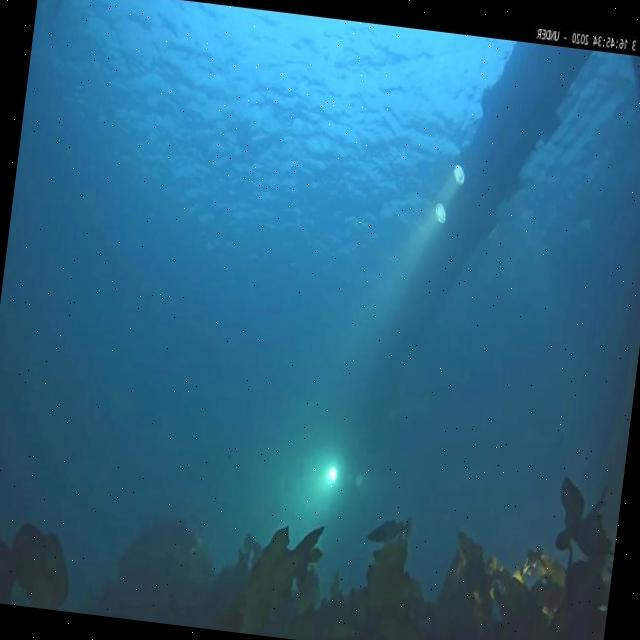fish: (365, 508, 413, 548)
